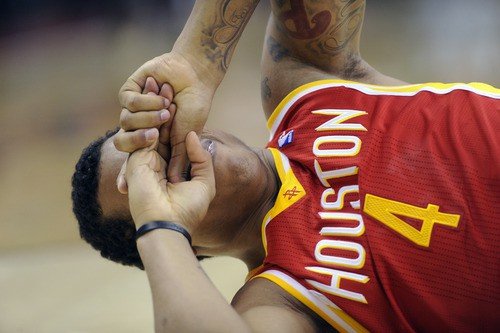down: (67, 1, 500, 333)
